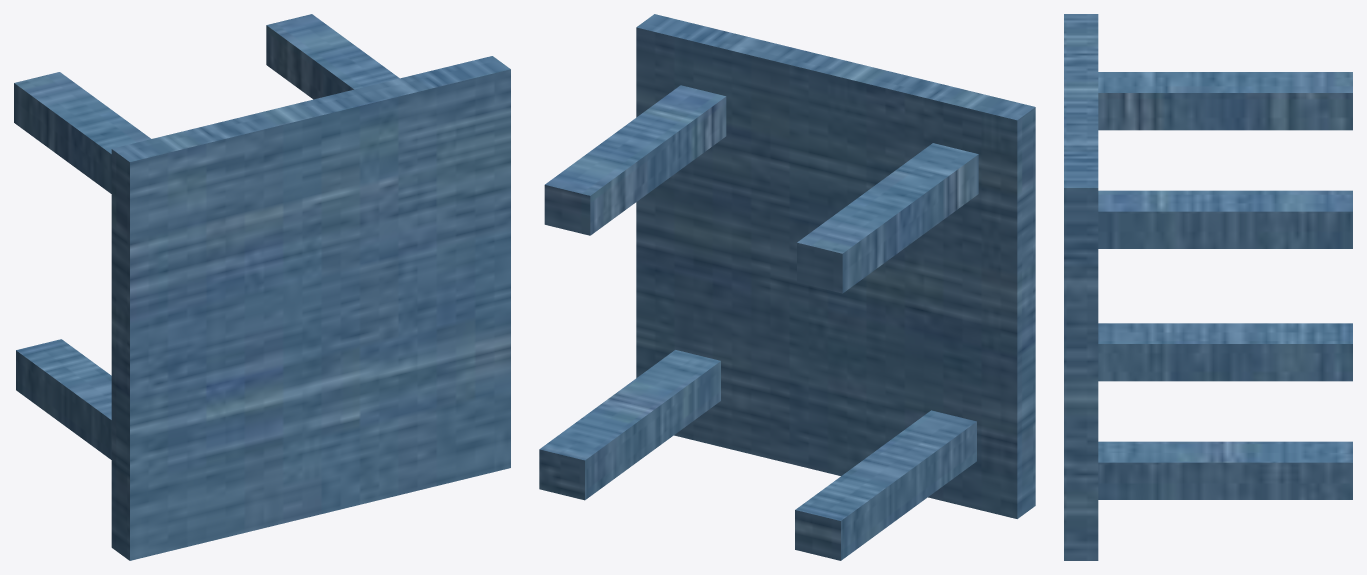
Rendered from table.obj.
3 renders of one model, left to right at view 1: azimuth 30°, elevation 25°; view 2: azimuth 150°, elevation 25°; view 3: azimuth 270°, elevation 25°, orthographic. The views are drawn at different scales.
Parts seen in each view (by area): view 1: Cube; view 2: Cube; view 3: Cube.
Part boxes in pixels (bbox=[...]): Cube: bbox=[14, 14, 510, 560]; Cube: bbox=[539, 14, 1035, 560]; Cube: bbox=[1064, 14, 1352, 560].
Bounding box in the file's own units: 0.6 × 0.6 × 0.4211.
Materials: 1 (1 with a texture image).
